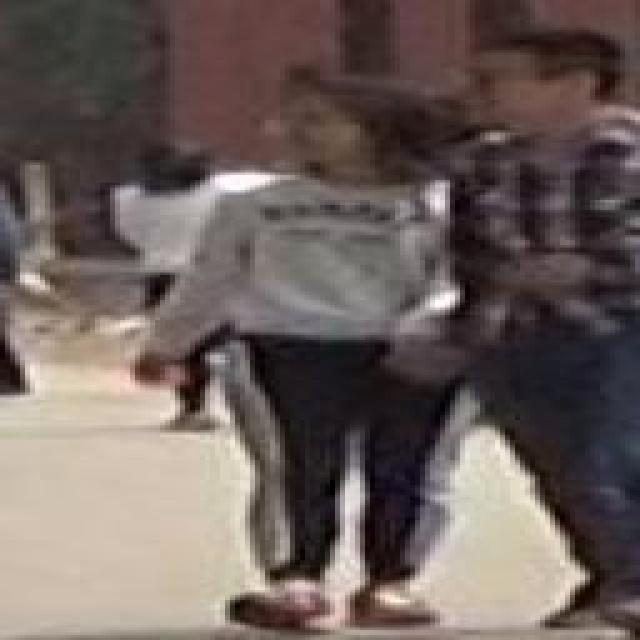adult: (132, 76, 492, 628), (448, 24, 640, 633)
